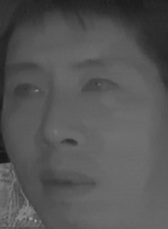eye: (78, 73, 119, 99), (9, 78, 45, 103)
mouth: (36, 162, 97, 199)
